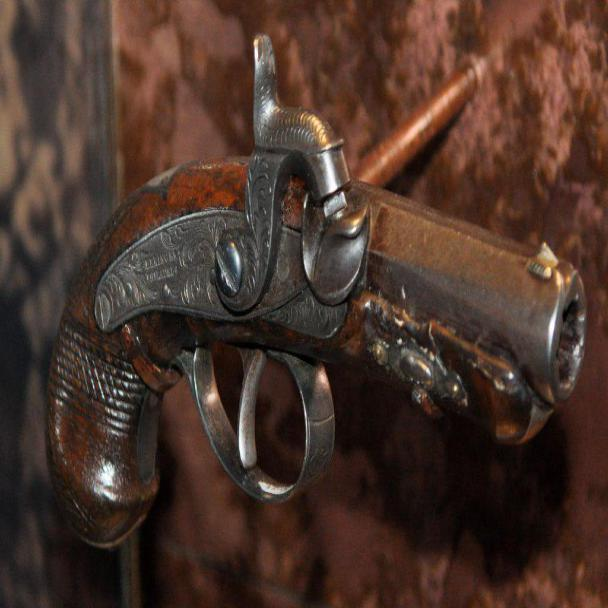Gun: (0, 14, 589, 559)
